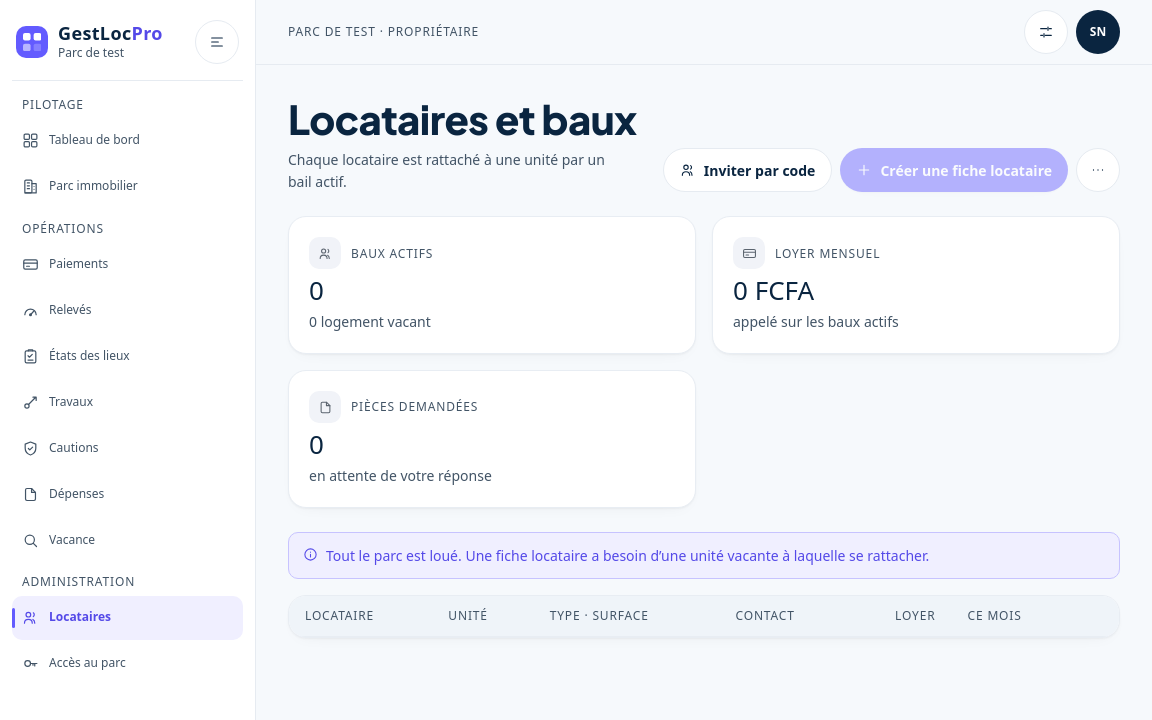
Test case: qui recrute un gestionnaire › laisse le propriétaire choisir le rôle qu’il invite
The image size is (1152, 720).
Expected: the heading "Locataires et baux" is shown, [288,97,647,141]
Click the button "Inviter par code".
click(748, 170)  # box [663,148,832,192]
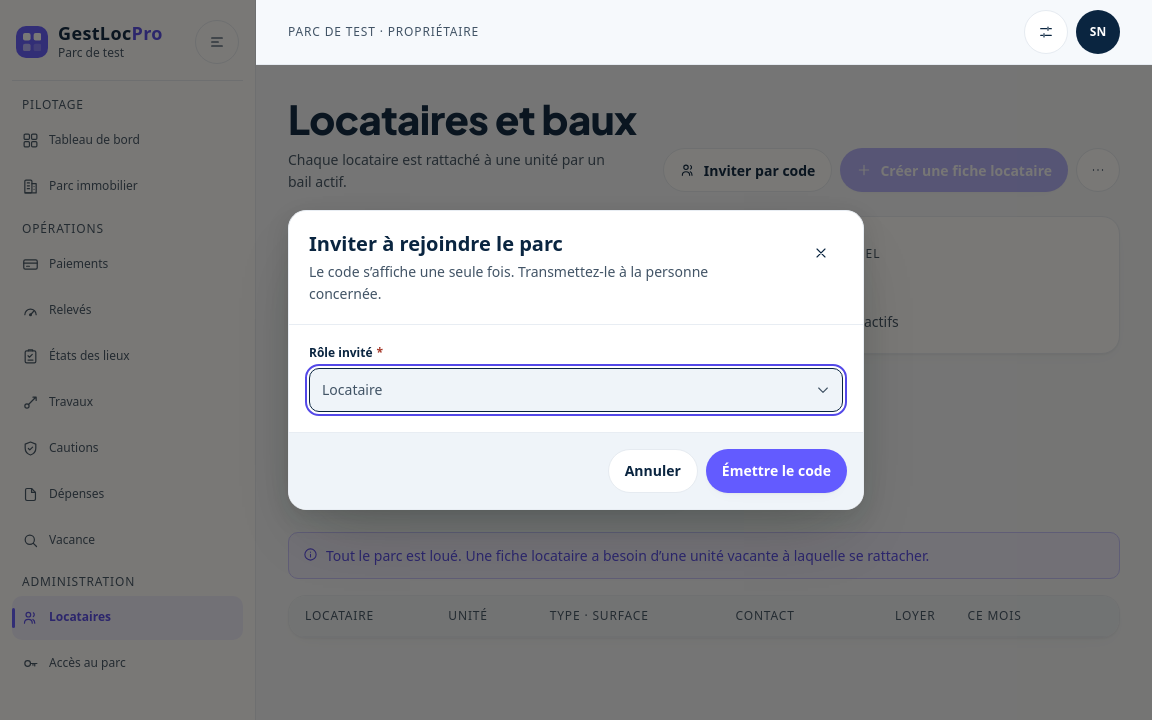
Expected: the dialog is shown, [288,210,864,510]
